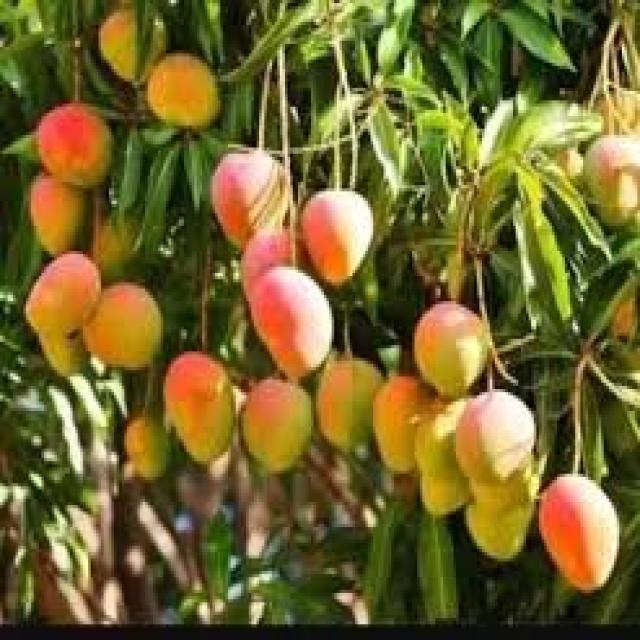Mango: (248, 268, 334, 378), (542, 475, 616, 588), (163, 352, 237, 465), (210, 147, 292, 246), (414, 300, 492, 398), (315, 355, 390, 455), (83, 282, 170, 368), (456, 388, 537, 479), (240, 381, 313, 474), (302, 189, 374, 282), (36, 102, 114, 186), (373, 376, 437, 476), (24, 253, 102, 334), (150, 52, 228, 132), (98, 8, 170, 88), (28, 177, 99, 253)
